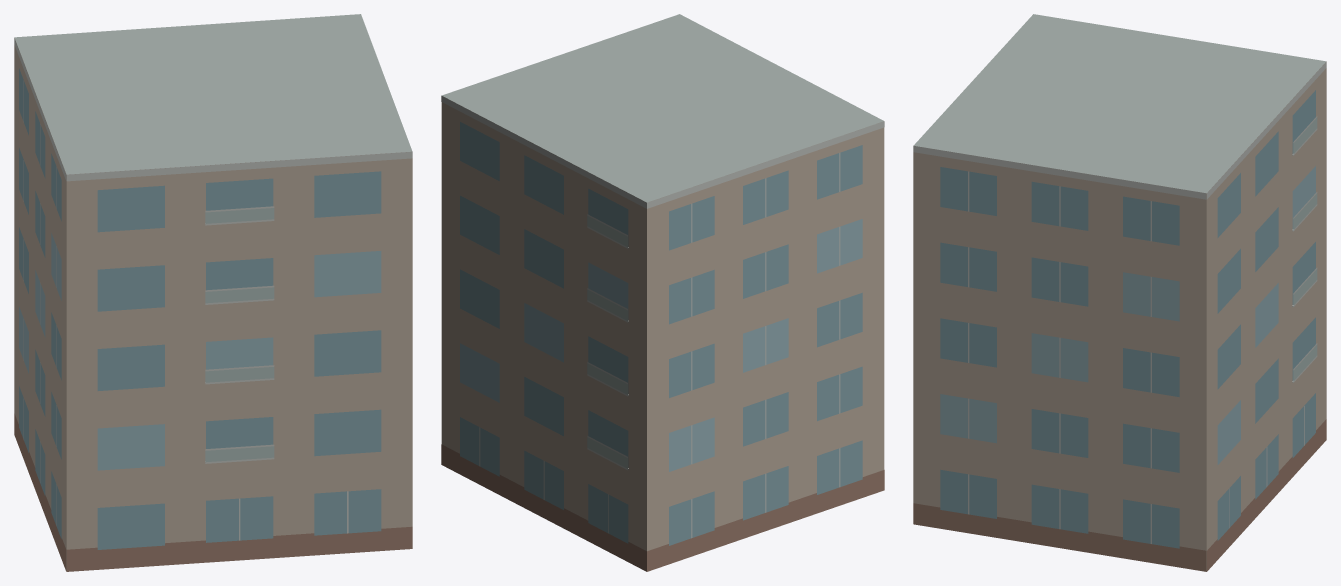
Rendered from survey-upis-32869788.glb.
3 views of the same model, side by side, from view 1: azimuth 30°, elevation 25°; view 2: azimuth 150°, elevation 25°; view 3: azimuth 270°, elevation 25° (orthographic). The views are drawn at different scales.
Visible parts, largest first — view 1: survey-upis-32869788.tmp; view 2: survey-upis-32869788.tmp; view 3: survey-upis-32869788.tmp.
Boxes of the visible parts, bbox=[...] form: survey-upis-32869788.tmp: bbox=[14, 14, 412, 571]; survey-upis-32869788.tmp: bbox=[441, 14, 884, 571]; survey-upis-32869788.tmp: bbox=[913, 14, 1326, 571].
Bounding box in the file's own units: 14.53 × 14.3 × 14.15.
